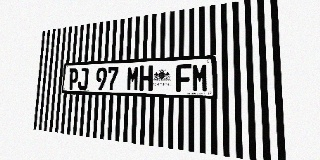7: (106, 67, 119, 91)
9: (95, 67, 107, 90)
F: (176, 64, 191, 92)
H: (139, 65, 153, 91)
J: (77, 68, 89, 90)
M: (192, 63, 208, 92), (126, 66, 139, 91)
P: (68, 68, 79, 90)
